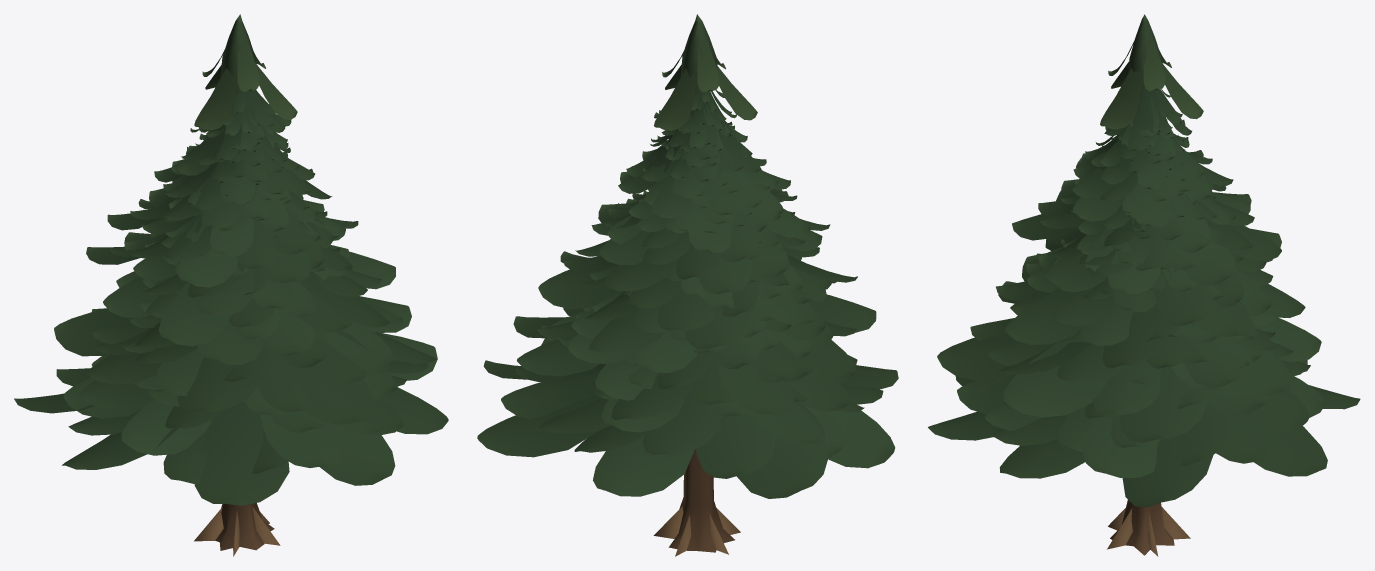
The model's file is reference-pines.glb.
The picture shows the model from 3 angles, left to right: view 1: azimuth 30°, elevation 25°; view 2: azimuth 150°, elevation 25°; view 3: azimuth 270°, elevation 25°; orthographic projection.
Visible parts, largest first — view 1: ReferencePine_Short_LOD0, ReferencePine_Tall_LOD0, ReferencePine_Slim_LOD0; view 2: ReferencePine_Short_LOD0, ReferencePine_Tall_LOD0, ReferencePine_Slim_LOD0; view 3: ReferencePine_Short_LOD0, ReferencePine_Tall_LOD0, ReferencePine_Slim_LOD0.
Part boxes in pixels (bbox=[...]): ReferencePine_Short_LOD0: bbox=[14, 14, 448, 556]; ReferencePine_Tall_LOD0: bbox=[79, 93, 397, 432]; ReferencePine_Slim_LOD0: bbox=[121, 92, 338, 353]; ReferencePine_Short_LOD0: bbox=[477, 14, 898, 556]; ReferencePine_Tall_LOD0: bbox=[549, 90, 857, 432]; ReferencePine_Slim_LOD0: bbox=[558, 91, 811, 388]; ReferencePine_Short_LOD0: bbox=[928, 14, 1360, 556]; ReferencePine_Tall_LOD0: bbox=[995, 90, 1310, 447]; ReferencePine_Slim_LOD0: bbox=[1063, 89, 1275, 386].
Size of what is drawn, in the model's own units: 0.7762 by 1 by 0.7475.
